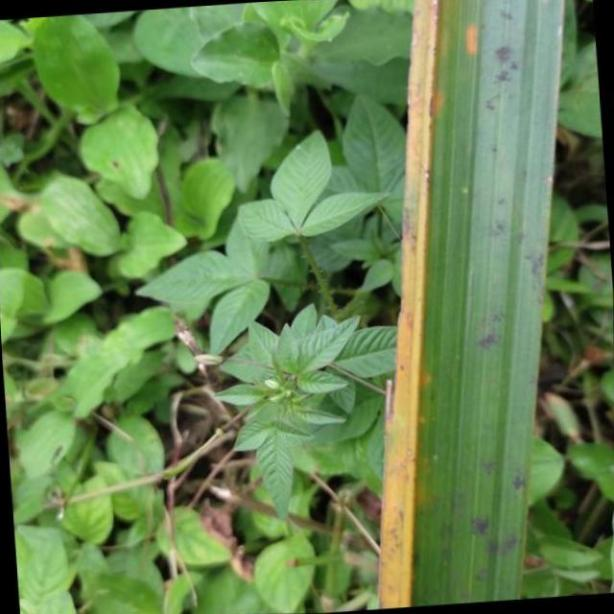Megnesium: (387, 0, 564, 614)
